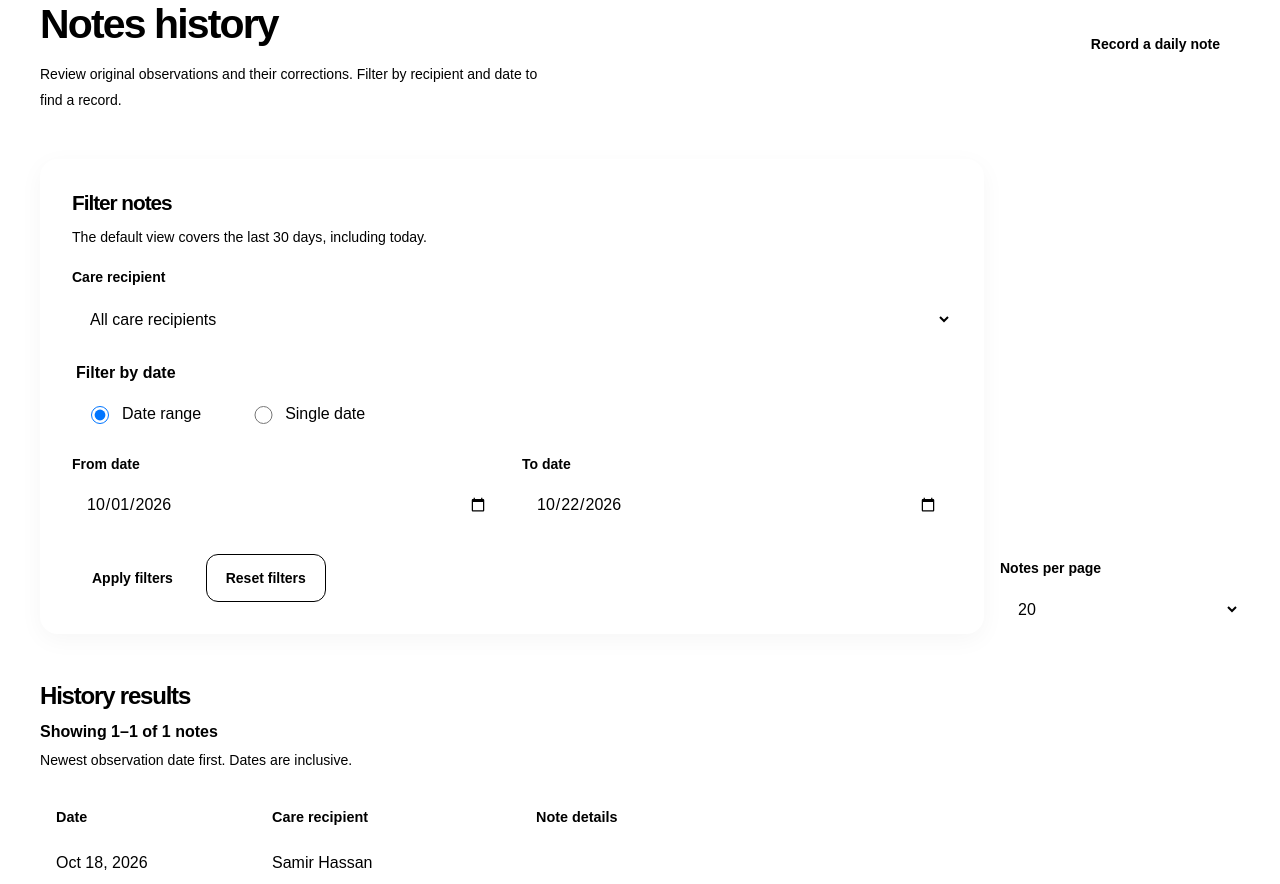
it: history screen, filters and immutable records › validates empty/reversed dates, focuses the field and retains the current results without a request
The image size is (1280, 884).
(page scrolled)
Clear the date field labelled "From date" at [287, 505], box [72, 480, 502, 530]
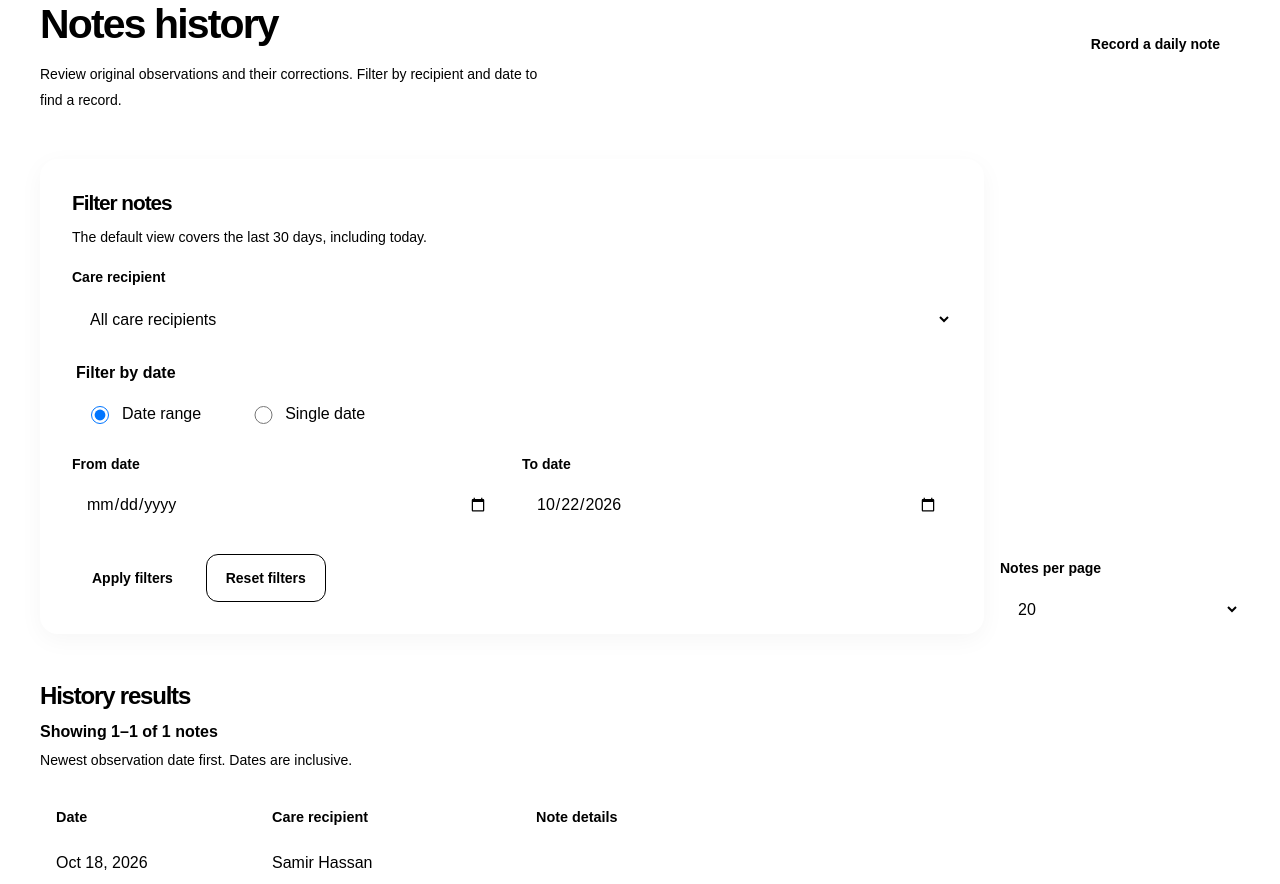
Click the button "Apply filters" at [132, 578], box [72, 554, 193, 602]
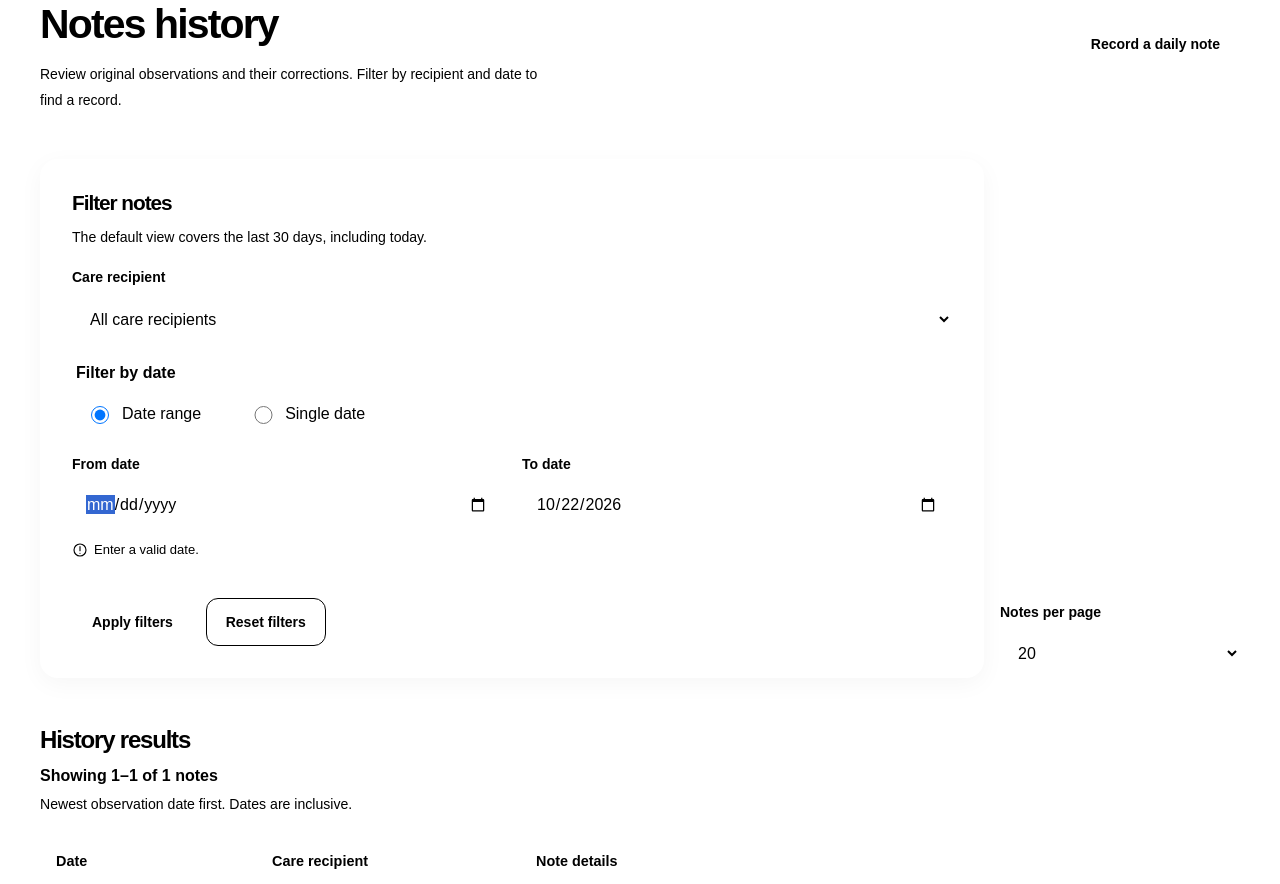
Expected: the date field labelled "From date" is marked as invalid
Type "2026-11-01" into the date field labelled "From date" at [287, 505], box [72, 480, 502, 530]
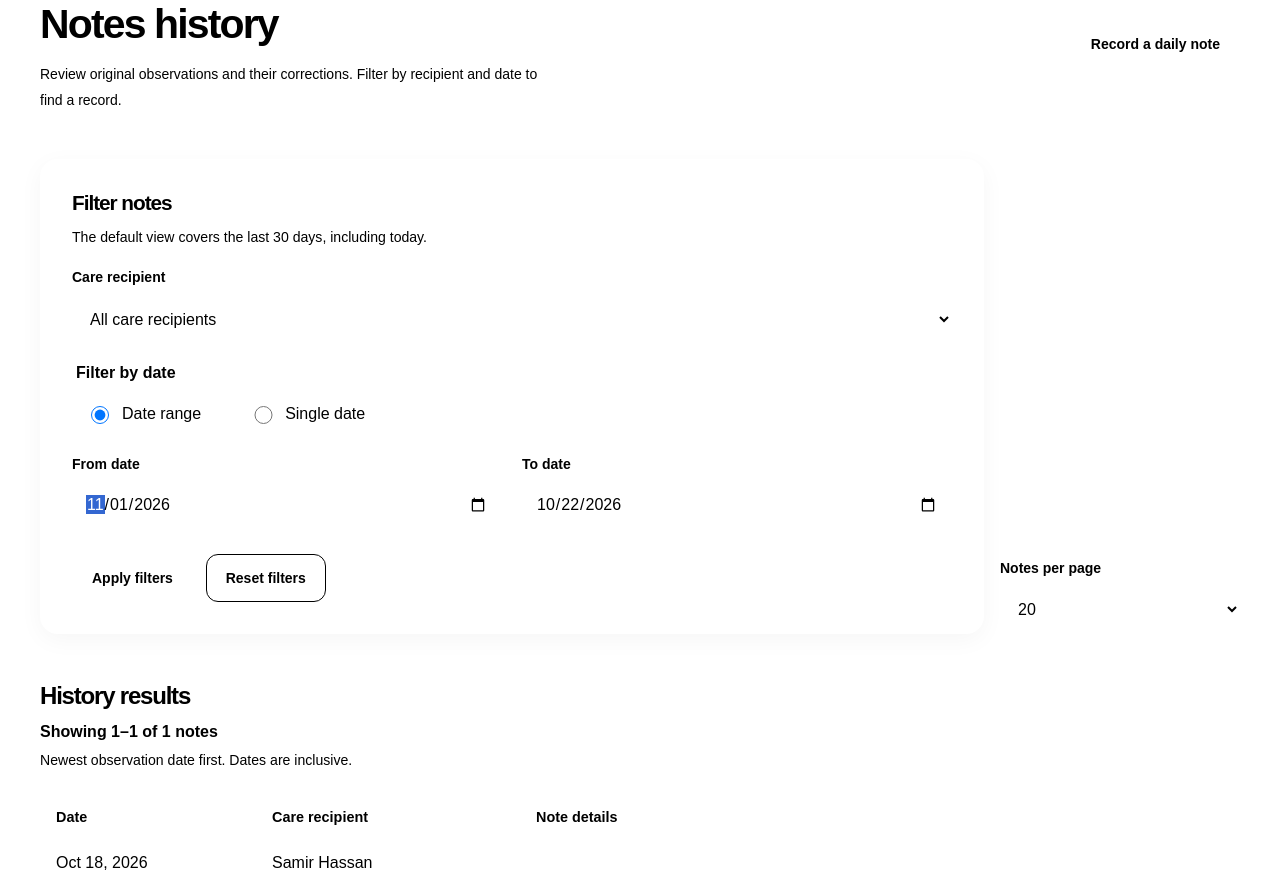
Click the button "Apply filters" at [132, 578], box [72, 554, 193, 602]
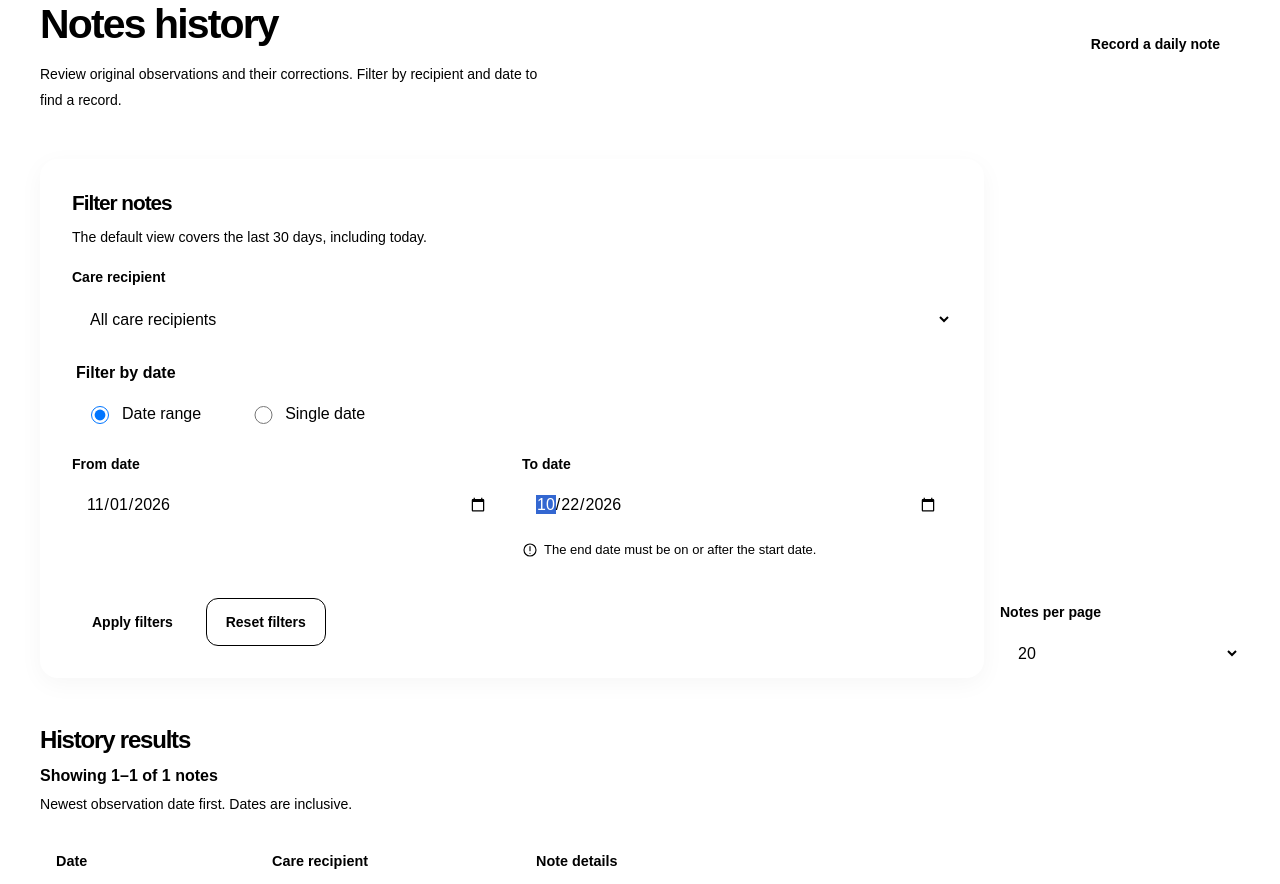
Expected: the message "The end date must be on or after the start date." is shown, [522, 542, 816, 558]
